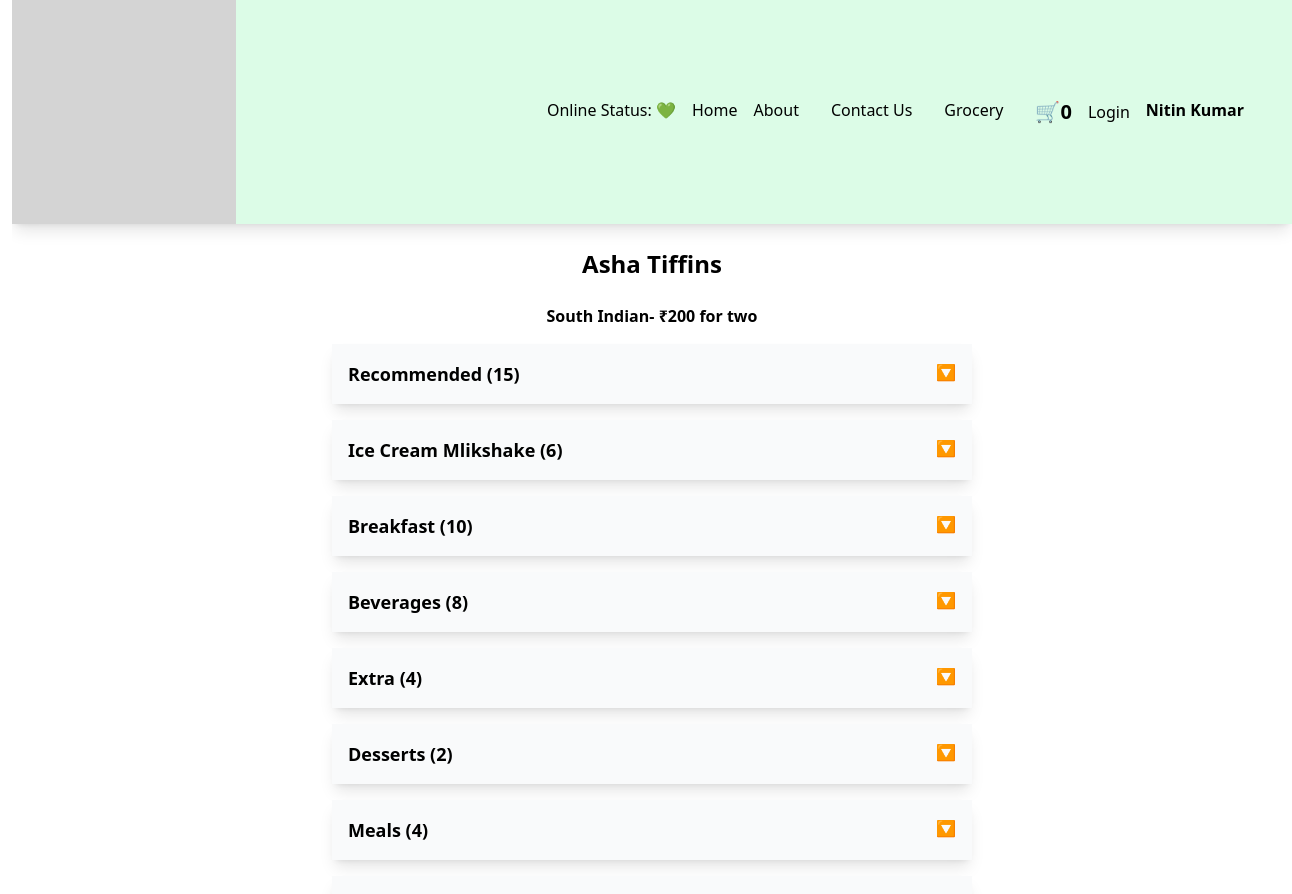
Test case: Should load Restaurant menu component
The image size is (1292, 894).
Click the text "Breakfast (10)": (410, 526) [348,512,473,540]
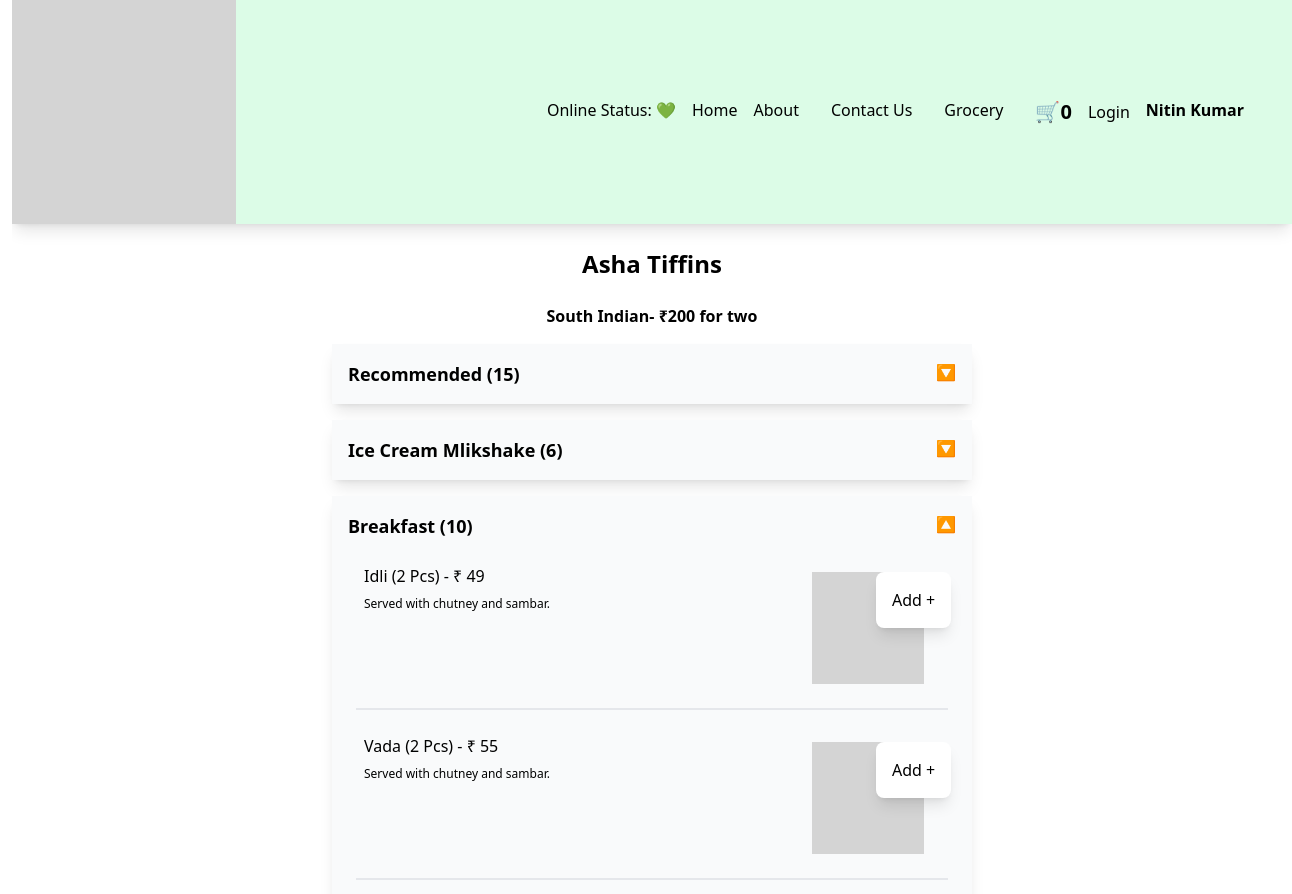
Expected: the number of elements with test id "fooditems" is 10
Click the button "Add +" in the row of "49": (914, 600) [876,572,951,628]
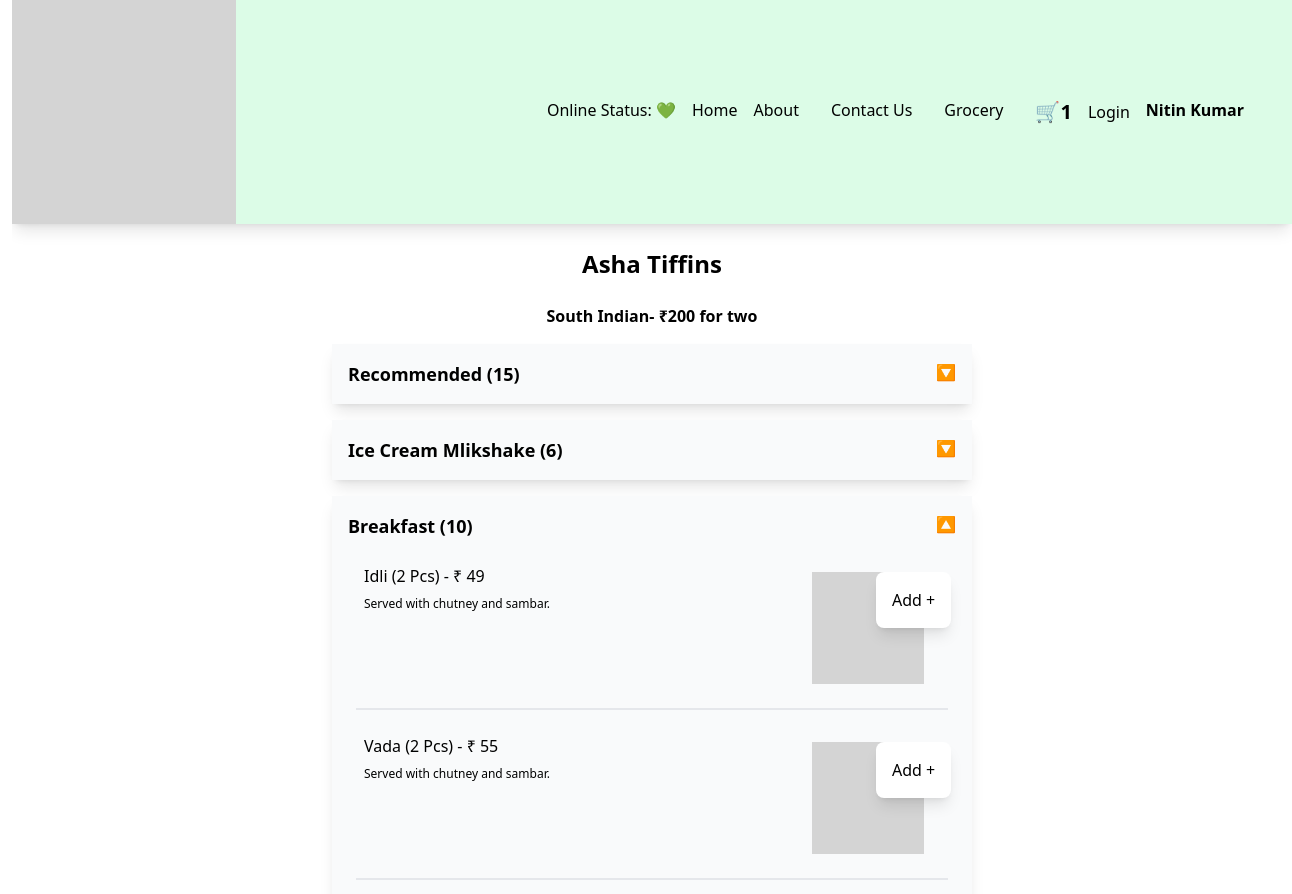
Expected: the link "🛒1" is shown, [1036,98,1072,125]
Click the button "Add +" in the row of "55": (914, 770) [876,742,951,798]
(page scrolled)
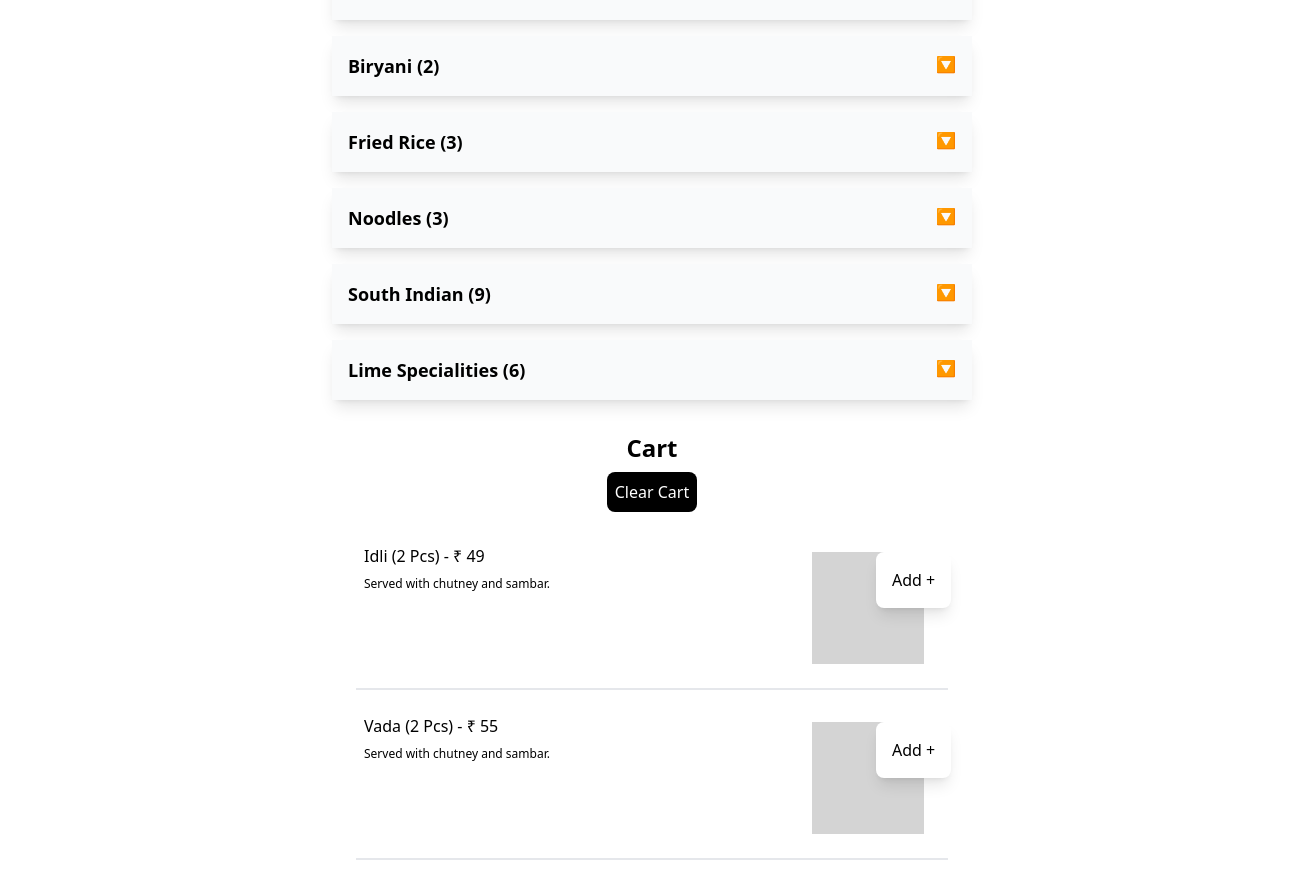
Click the button "Clear Cart": (652, 492) [607,472,697,512]
(page scrolled)
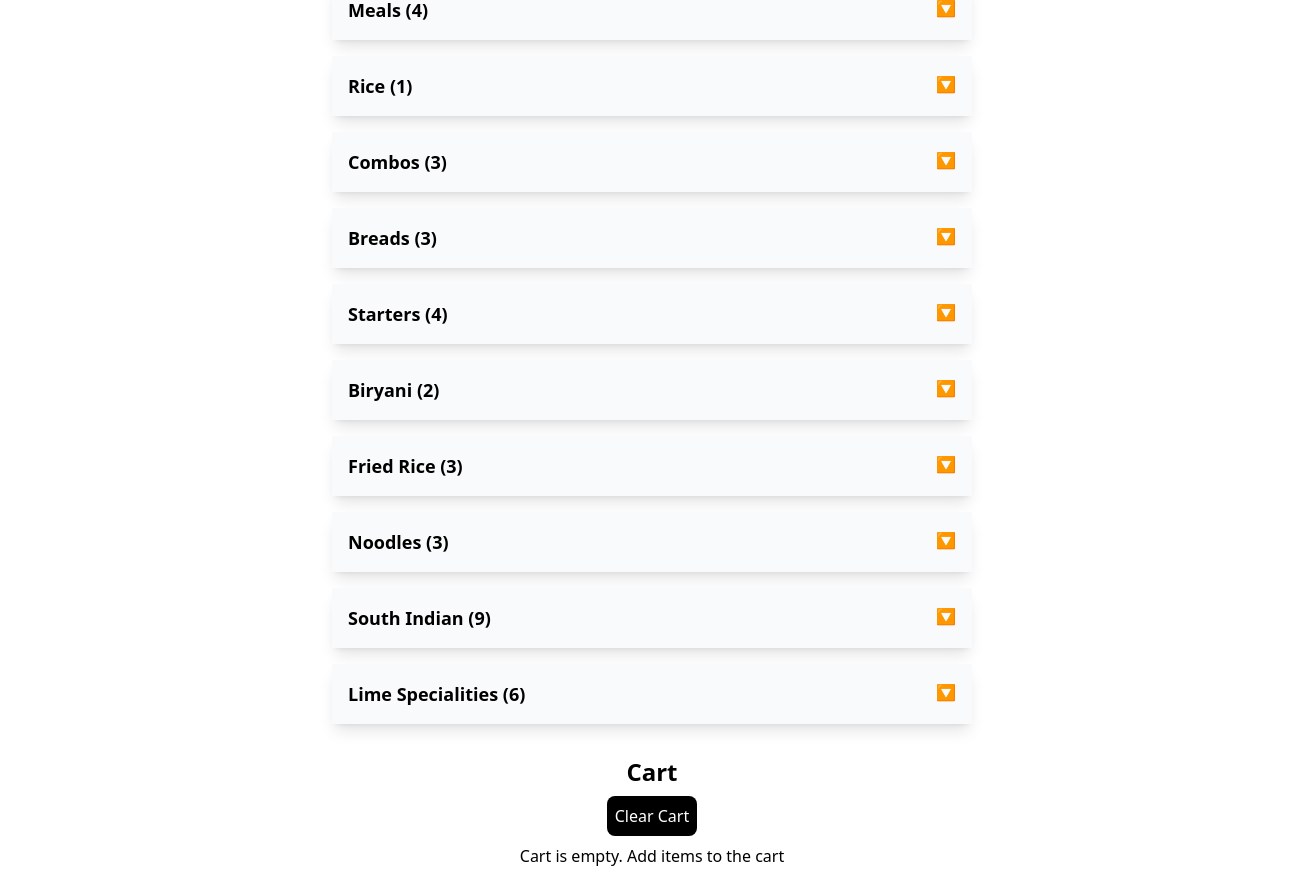
Expected: the heading "Cart is empty. Add items to the cart" is shown, [520,845,784,867]
